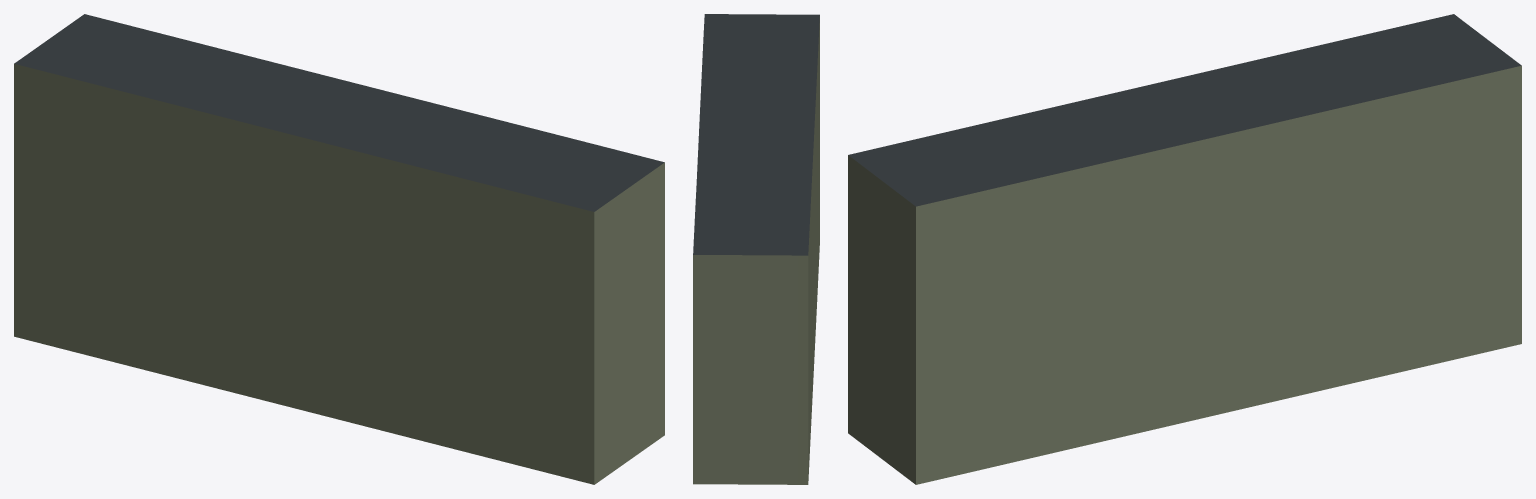
The model's file is nyc-1081061-0.glb.
3 views of the same model, side by side, from view 1: azimuth 30°, elevation 25°; view 2: azimuth 150°, elevation 25°; view 3: azimuth 270°, elevation 25° (orthographic). The views are drawn at different scales.
Parts seen in each view (by area): view 1: nyc-1081061-0; view 2: nyc-1081061-0; view 3: nyc-1081061-0.
Boxes of the visible parts, x1,y1,x2,y2 form: nyc-1081061-0: [14, 14, 664, 484]; nyc-1081061-0: [693, 14, 819, 484]; nyc-1081061-0: [848, 14, 1521, 484].
Bounding box in the file's own units: 19.8 × 13.34 × 29.27.
